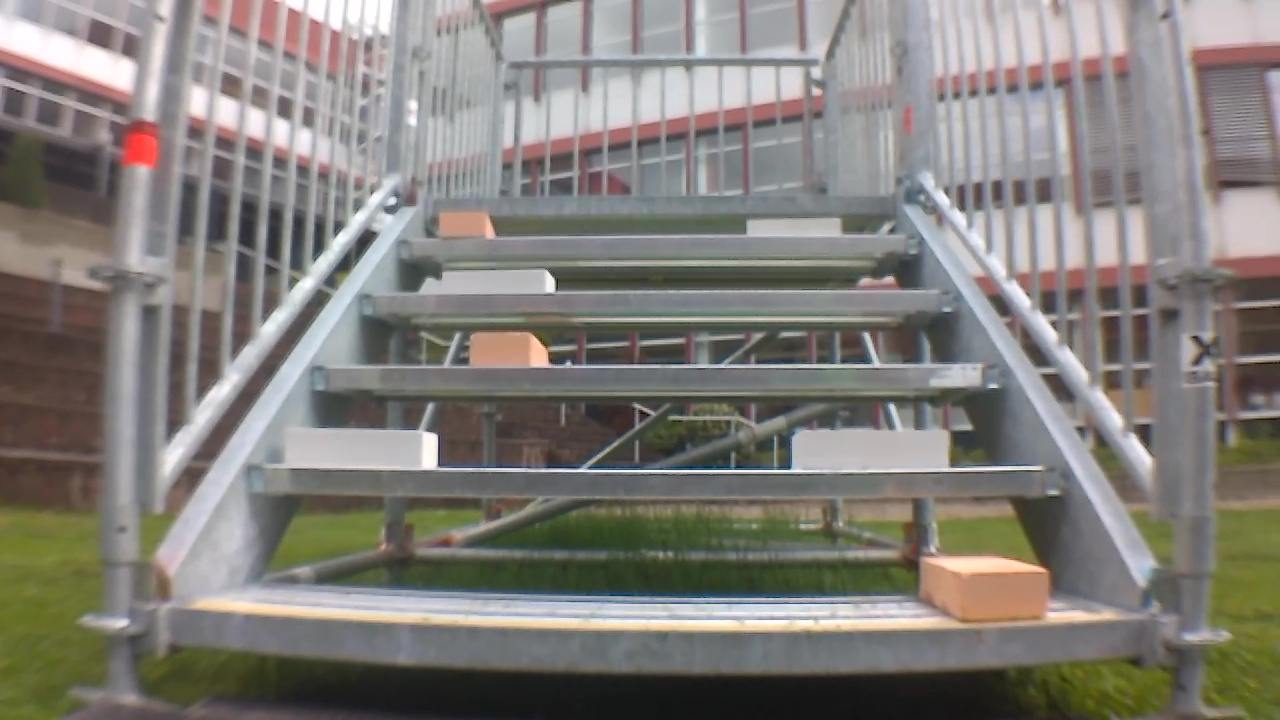brick: (921, 557, 1047, 620), (792, 430, 948, 470), (285, 428, 436, 469), (443, 270, 555, 292), (471, 334, 546, 366), (747, 217, 841, 235), (439, 212, 492, 237)
edge: (168, 606, 1145, 673), (245, 465, 1067, 498), (309, 363, 1002, 391), (363, 290, 961, 312), (398, 235, 919, 257), (430, 194, 899, 215)
stairs: (75, 1, 1232, 713)
steps: (154, 190, 1152, 687)
